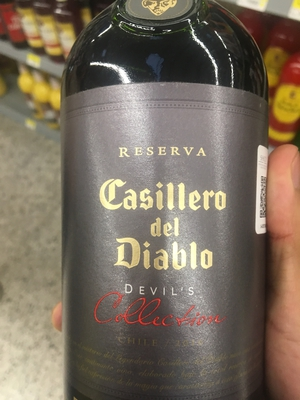casillero del diablo devils collection rojo: (57, 1, 274, 400)
